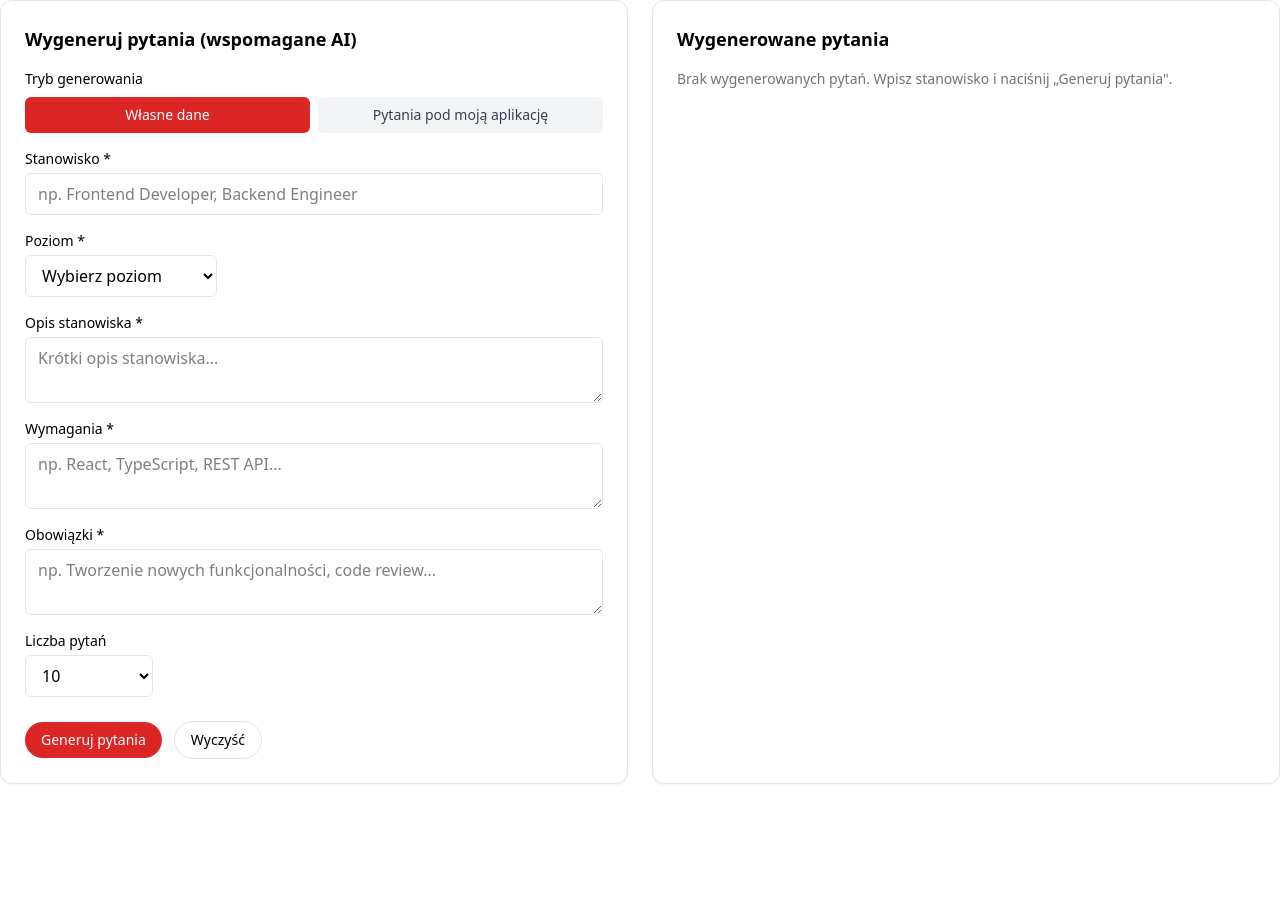
InterviewTestGenerator › application mode loads applications and generates
Click the button "Pytania pod moją aplikację".
click(460, 115)  # box x1=318 y1=97 x2=603 y2=133
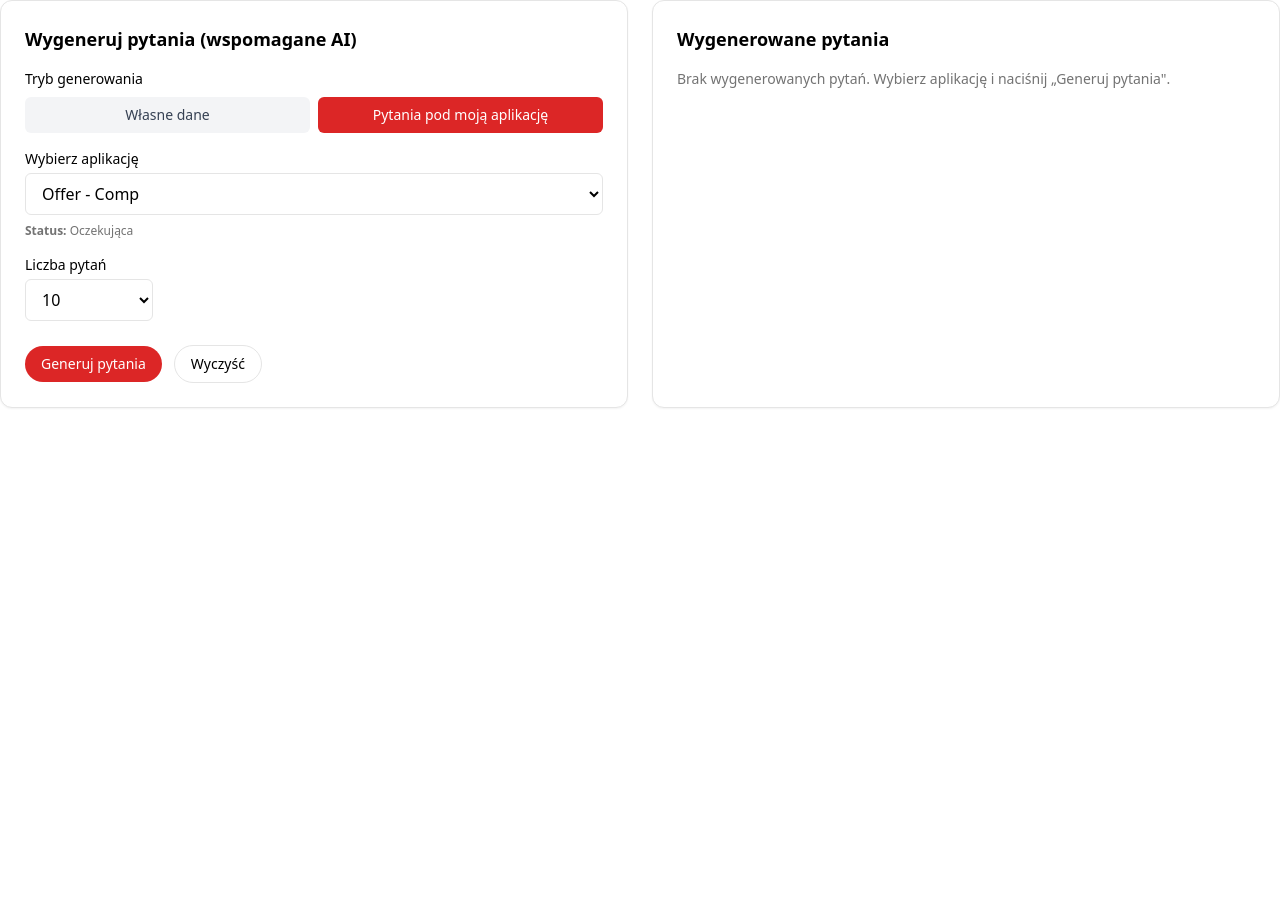
Click the button "Generuj pytania".
click(93, 364)  # box x1=25 y1=346 x2=162 y2=382
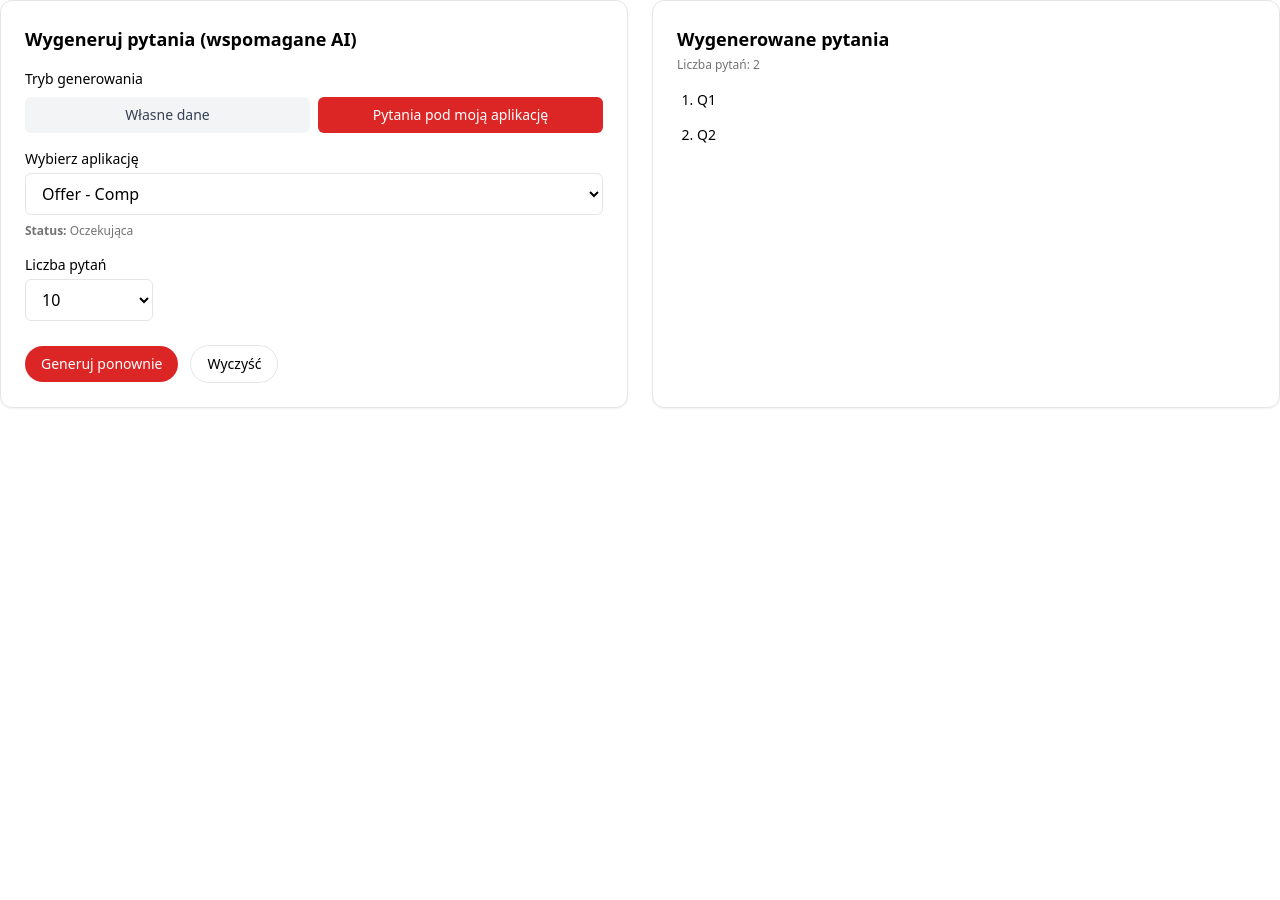
Now the list item "Q1" is shown, box x1=697 y1=90 x2=716 y2=109
